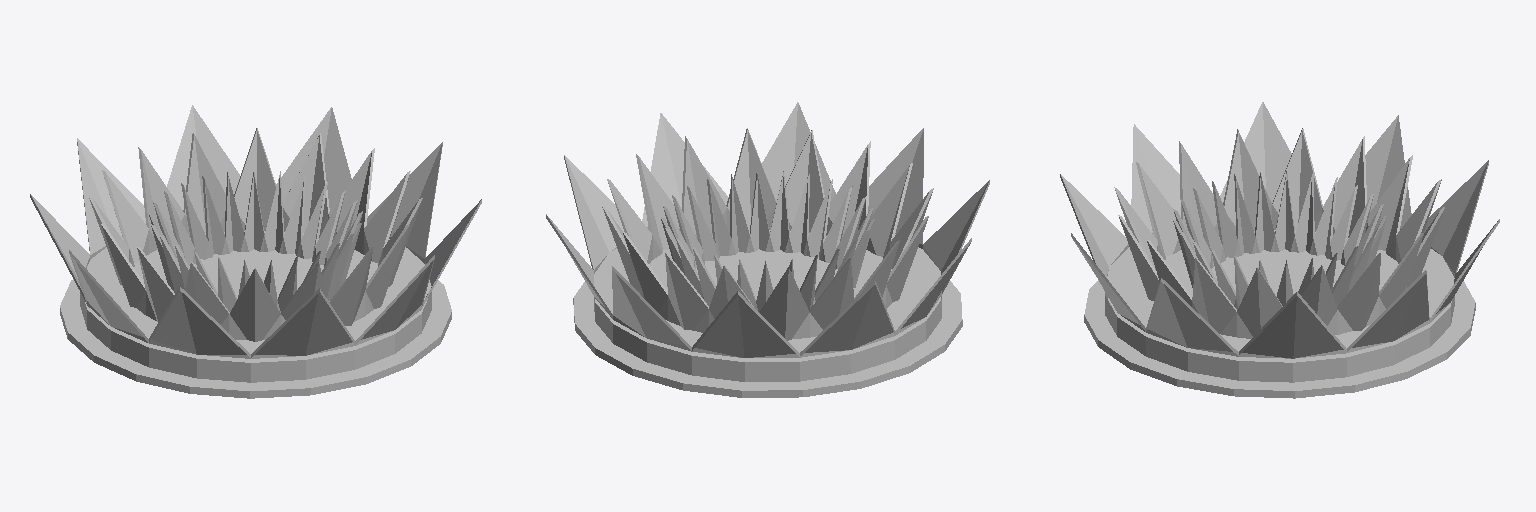
The model's file is portal_abrir_000012.obj.
3 views of the same model, side by side, from view 1: azimuth 30°, elevation 25°; view 2: azimuth 150°, elevation 25°; view 3: azimuth 270°, elevation 25° (orthographic).
Parts seen in each view (by area): view 1: pCylinder1, Cylinder, Cylinder.001; view 2: pCylinder1, Cylinder, Cylinder.001; view 3: pCylinder1, Cylinder, Cylinder.001.
Boxes of the visible parts, x1,y1,x2,y2 form: pCylinder1: [30, 105, 481, 398]; Cylinder: [89, 128, 422, 341]; Cylinder.001: [149, 171, 362, 312]; pCylinder1: [546, 102, 989, 397]; Cylinder: [602, 128, 933, 340]; Cylinder.001: [661, 171, 874, 312]; pCylinder1: [1060, 102, 1499, 398]; Cylinder: [1114, 128, 1445, 338]; Cylinder.001: [1173, 171, 1387, 309].
Bounding box in the file's own units: 2.62 × 0.7676 × 2.55.